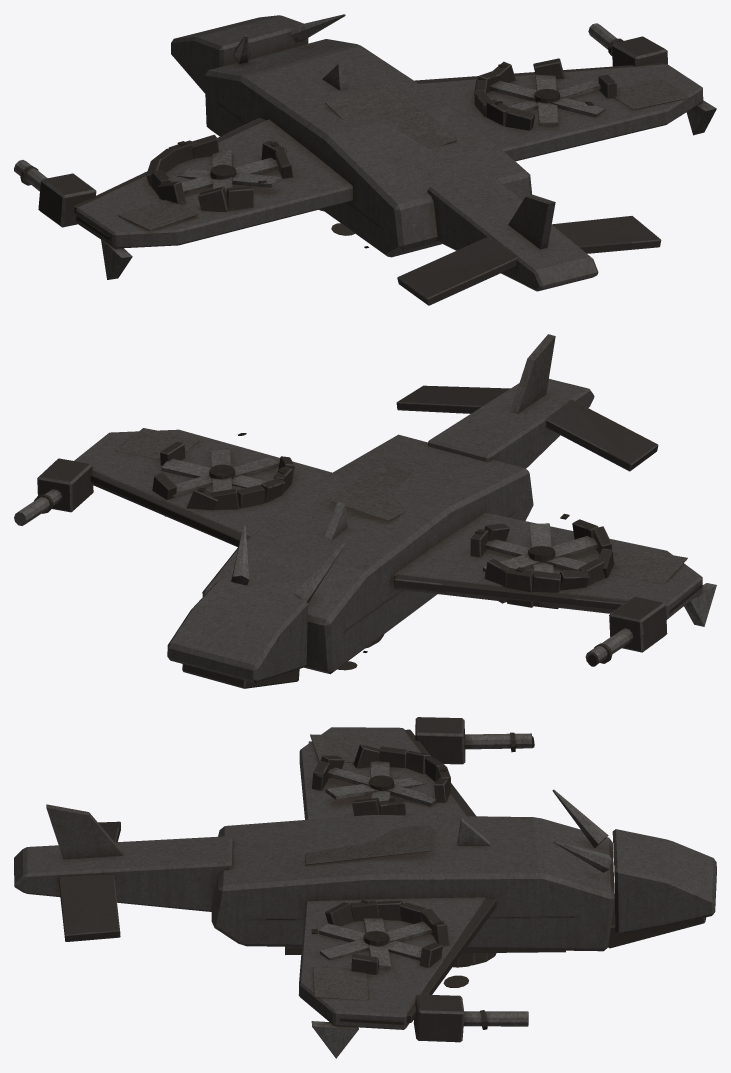
File: chs_dragon_wreck.fbx
3 renders of one model, top to bottom at view 1: azimuth 30°, elevation 25°; view 2: azimuth 150°, elevation 25°; view 3: azimuth 270°, elevation 25°, orthographic.
Parts seen in each view (by area): view 1: base_bar, fanR_bar, laser_l_bar, fanL_bar, laser_r_bar; view 2: base_bar, laser_l_bar, fanL_bar, laser_r_bar, fanR_bar; view 3: base_bar, laser_r_bar, laser_l_bar, fanR_bar, fanL_bar.
Boxes of the visible parts, x1,y1,x2,y2 form: base_bar: [74, 14, 716, 305]; fanR_bar: [489, 74, 605, 126]; laser_l_bar: [14, 160, 96, 227]; fanL_bar: [174, 150, 281, 194]; laser_r_bar: [588, 23, 667, 66]; base_bar: [74, 334, 716, 688]; laser_l_bar: [585, 596, 667, 666]; fanL_bar: [483, 523, 597, 572]; laser_r_bar: [14, 458, 93, 525]; fanR_bar: [161, 449, 279, 497]; base_bar: [14, 727, 716, 1058]; laser_r_bar: [413, 994, 528, 1042]; laser_l_bar: [415, 717, 534, 764]; fanR_bar: [318, 918, 432, 969]; fanL_bar: [325, 761, 436, 806].
Size of the model in its own units: 3236 by 917 by 3274.
2 materials, 2 textured.
